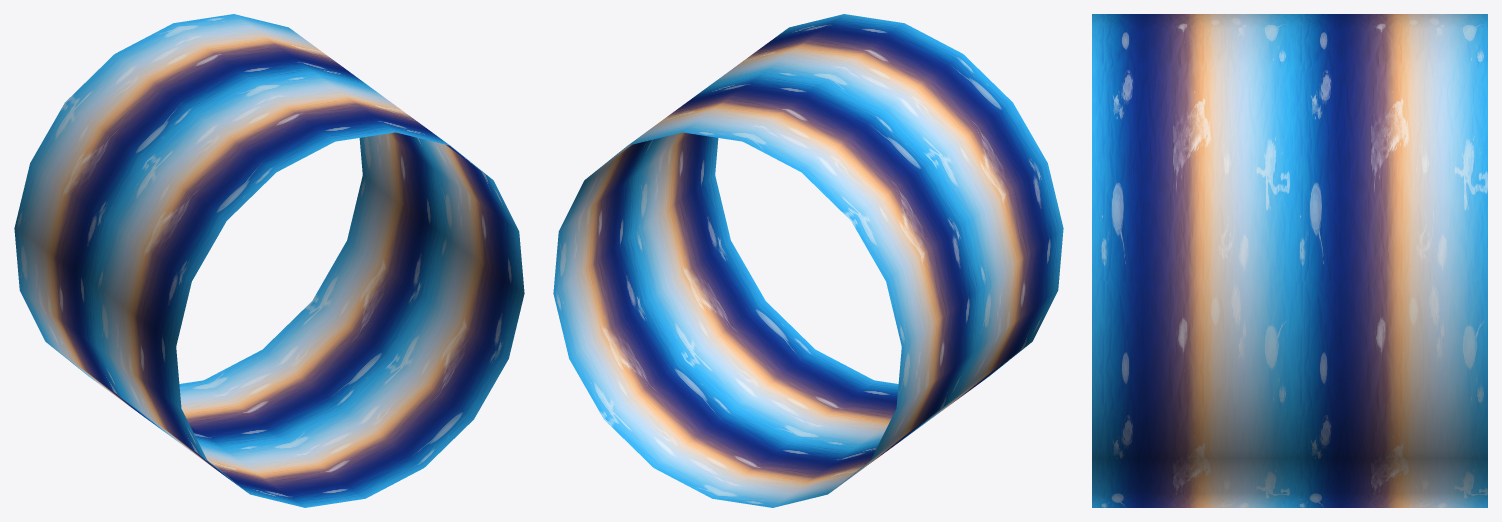
The model's file is cielo_cilindro.FBX.
3 renders of one model, left to right at view 1: azimuth 30°, elevation 25°; view 2: azimuth 150°, elevation 25°; view 3: azimuth 270°, elevation 25°, orthographic. The views are drawn at different scales.
Visible parts, largest first — view 1: Cylinder001; view 2: Cylinder001; view 3: Cylinder001.
Part boxes in pixels (bbox=[...]): Cylinder001: bbox=[14, 14, 524, 507]; Cylinder001: bbox=[553, 14, 1063, 507]; Cylinder001: bbox=[1092, 14, 1487, 507].
Bounding box in the file's own units: 1950 × 1950 × 1569.
1 material, 1 textured.
